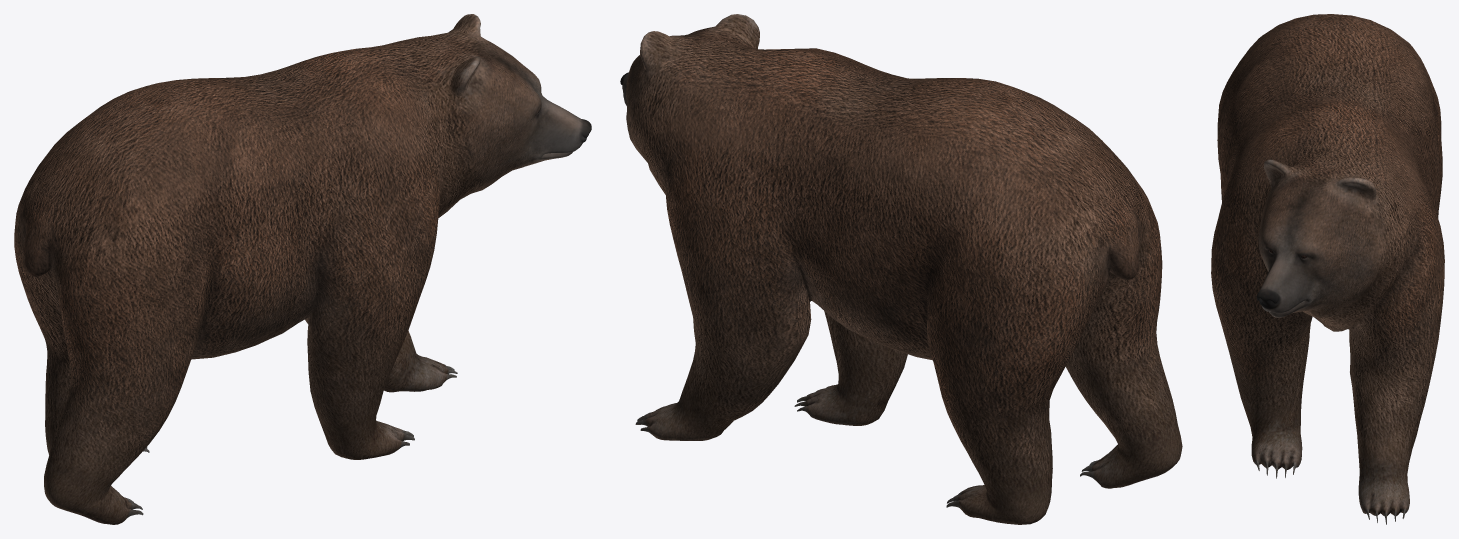
Rendered from bear.glb.
The picture shows the model from 3 angles, left to right: view 1: azimuth 30°, elevation 25°; view 2: azimuth 150°, elevation 25°; view 3: azimuth 270°, elevation 25°; orthographic projection. The views are drawn at different scales.
Parts seen in each view (by area): view 1: node_id36_0; view 2: node_id36_0; view 3: node_id36_0.
Part boxes in pixels (bbox=[...]): node_id36_0: bbox=[14, 14, 591, 524]; node_id36_0: bbox=[620, 14, 1182, 524]; node_id36_0: bbox=[1211, 14, 1444, 524].
Bounding box in the file's own units: 0.77 × 0.512 × 0.3016.
Materials: 1 (1 with a texture image).
